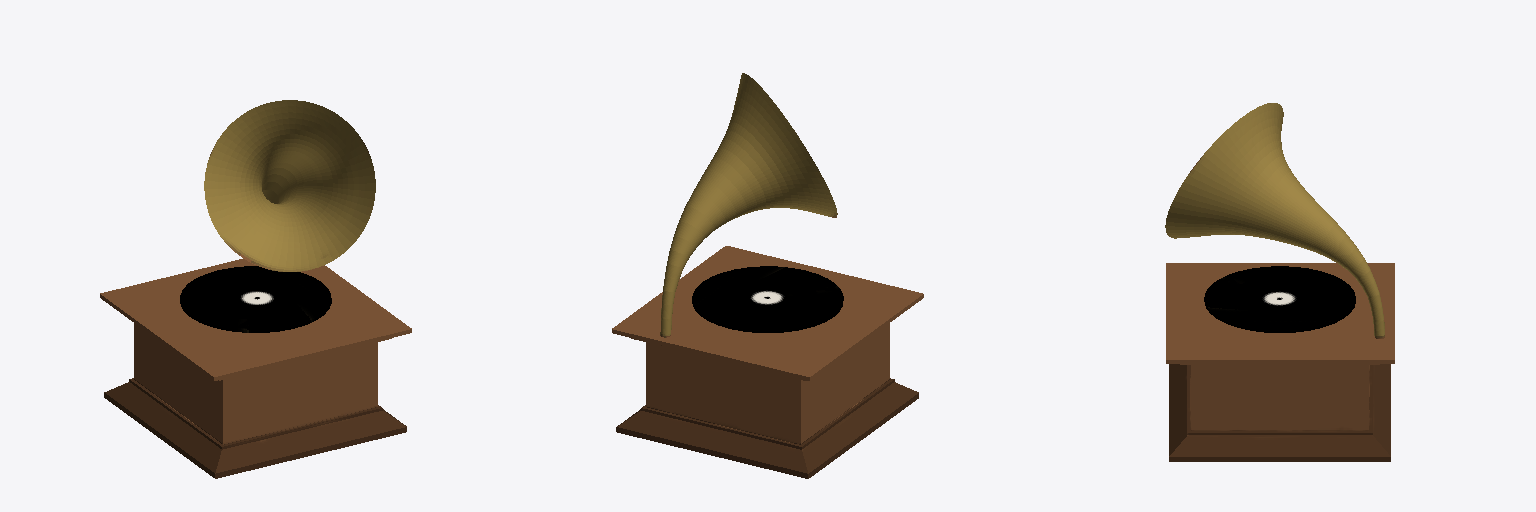
The picture shows the model from 3 angles: view 1: azimuth 30°, elevation 25°; view 2: azimuth 150°, elevation 25°; view 3: azimuth 270°, elevation 25°; orthographic projection.
Parts seen in each view (by area): view 1: grammofon_Cube; view 2: grammofon_Cube; view 3: grammofon_Cube.
Part boxes in pixels (x1,y1,x2,y2): grammofon_Cube: (100,100,411,478); grammofon_Cube: (612,73,923,478); grammofon_Cube: (1165,103,1394,461).
Size of the model in its own units: 0.452 by 0.6938 by 0.4528.
1 materials, 1 textured.